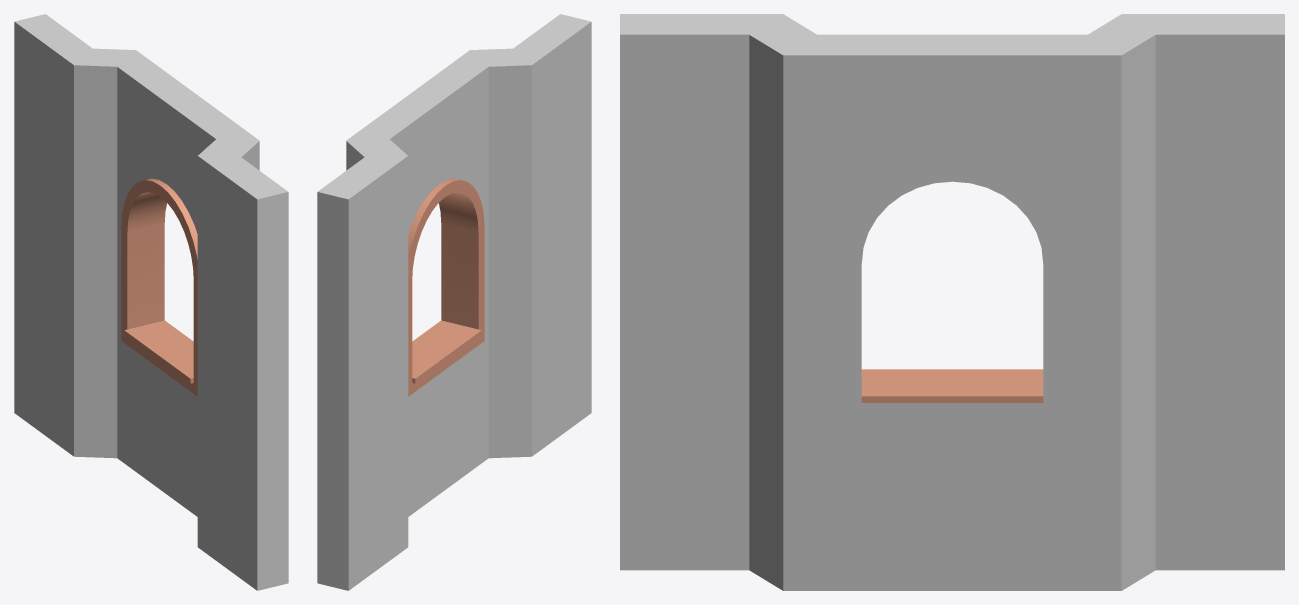
The model's file is WallWindow.fbx.
The picture shows the model from 3 angles, left to right: view 1: azimuth 30°, elevation 25°; view 2: azimuth 150°, elevation 25°; view 3: azimuth 270°, elevation 25°; orthographic projection. The views are drawn at different scales.
Visible parts, largest first — view 1: WallWindow, Window; view 2: WallWindow, Window; view 3: WallWindow, Window.
Part boxes in pixels (box(x1,y1,x2,y2)): WallWindow: box(14, 14, 288, 590); Window: box(121, 146, 197, 398); WallWindow: box(317, 14, 591, 590); Window: box(408, 146, 484, 398); WallWindow: box(620, 14, 1284, 590); Window: box(840, 155, 1064, 429).
Bounding box in the file's own units: 66.33 × 400 × 450.
